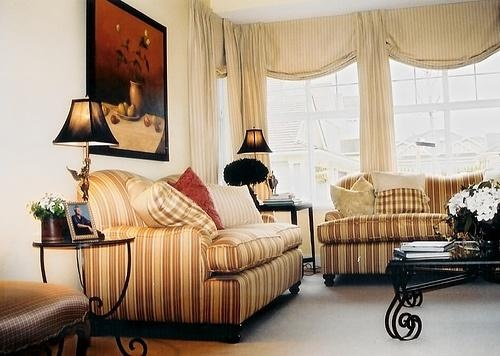pottedplant: (31, 194, 72, 244)
sofa: (78, 170, 305, 345), (318, 171, 500, 287)
